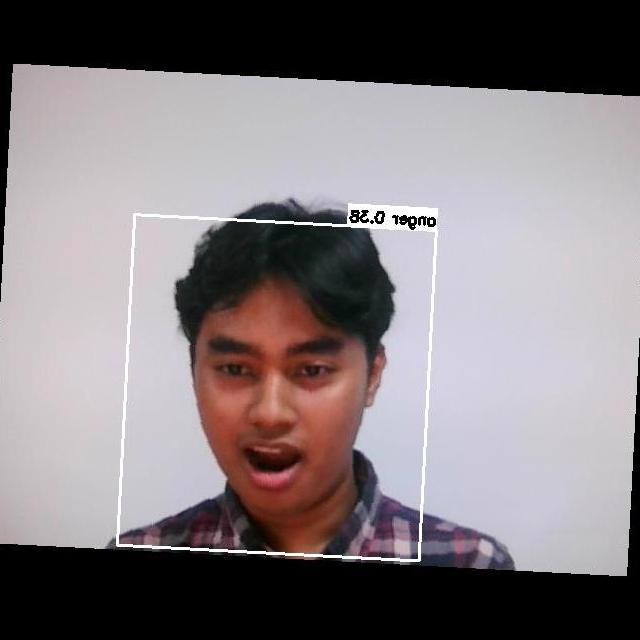Surprised: (185, 310, 370, 506)
